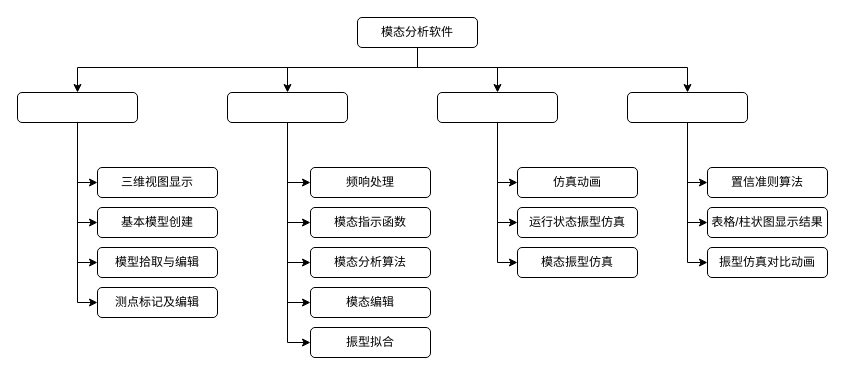
Image size: 845x375. Some labels were removed from this diagram. The shapes that lost their labels are listed below. From the top down, each one's centre as x and y in pixels, then its label:
At (77,107): "三维显示与建模".
At (287,107): "模态分析".
At (497,107): "振动仿真".
At (687,107): "模态置信准则".
